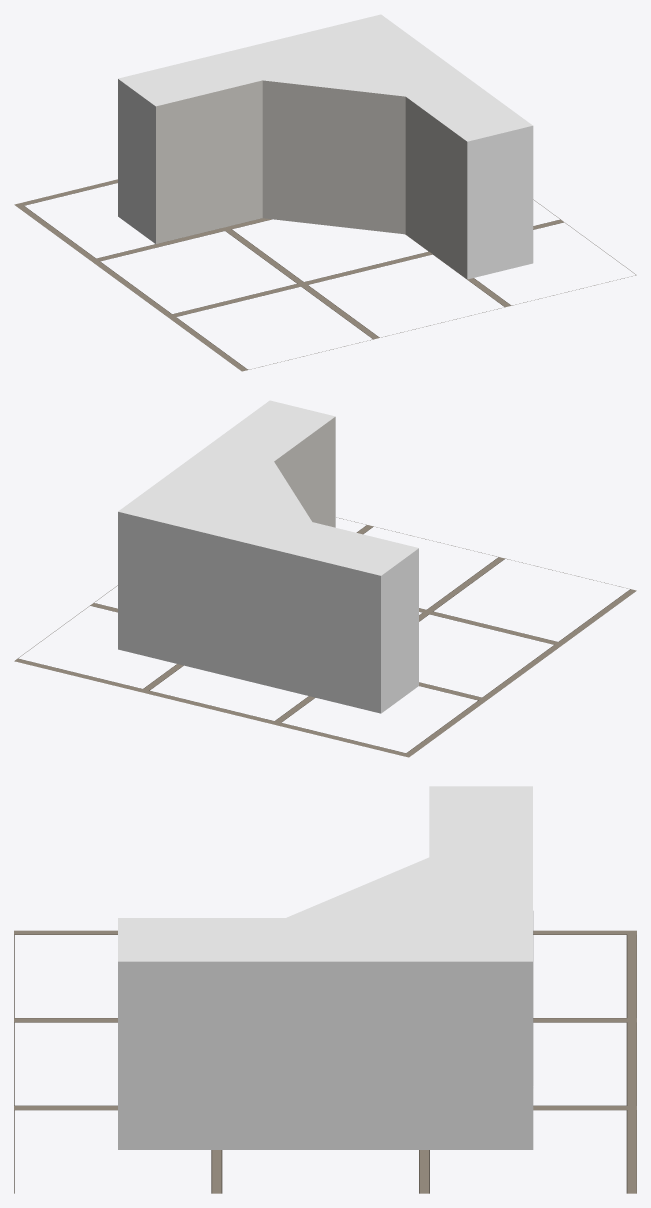
The model's file is Basic_Curve_Inner_2x2_Narrow_Mid.glb.
The picture shows the model from 3 angles, top to bottom: view 1: azimuth 30°, elevation 25°; view 2: azimuth 150°, elevation 25°; view 3: azimuth 270°, elevation 25°; orthographic projection. The views are drawn at different scales.
Visible parts, largest first — view 1: Basic_Curve_Inner_2x2_Narrow_Mid, Floor; view 2: Basic_Curve_Inner_2x2_Narrow_Mid, Floor; view 3: Basic_Curve_Inner_2x2_Narrow_Mid, Floor.
Boxes of the visible parts, bbox=[...] form: Basic_Curve_Inner_2x2_Narrow_Mid: bbox=[118, 14, 533, 279]; Floor: bbox=[14, 179, 636, 371]; Basic_Curve_Inner_2x2_Narrow_Mid: bbox=[118, 400, 418, 713]; Floor: bbox=[14, 517, 636, 757]; Basic_Curve_Inner_2x2_Narrow_Mid: bbox=[118, 786, 533, 1149]; Floor: bbox=[14, 930, 636, 1193].
Bounding box in the file's own units: 300 × 100 × 300.
3 materials, 1 textured.
